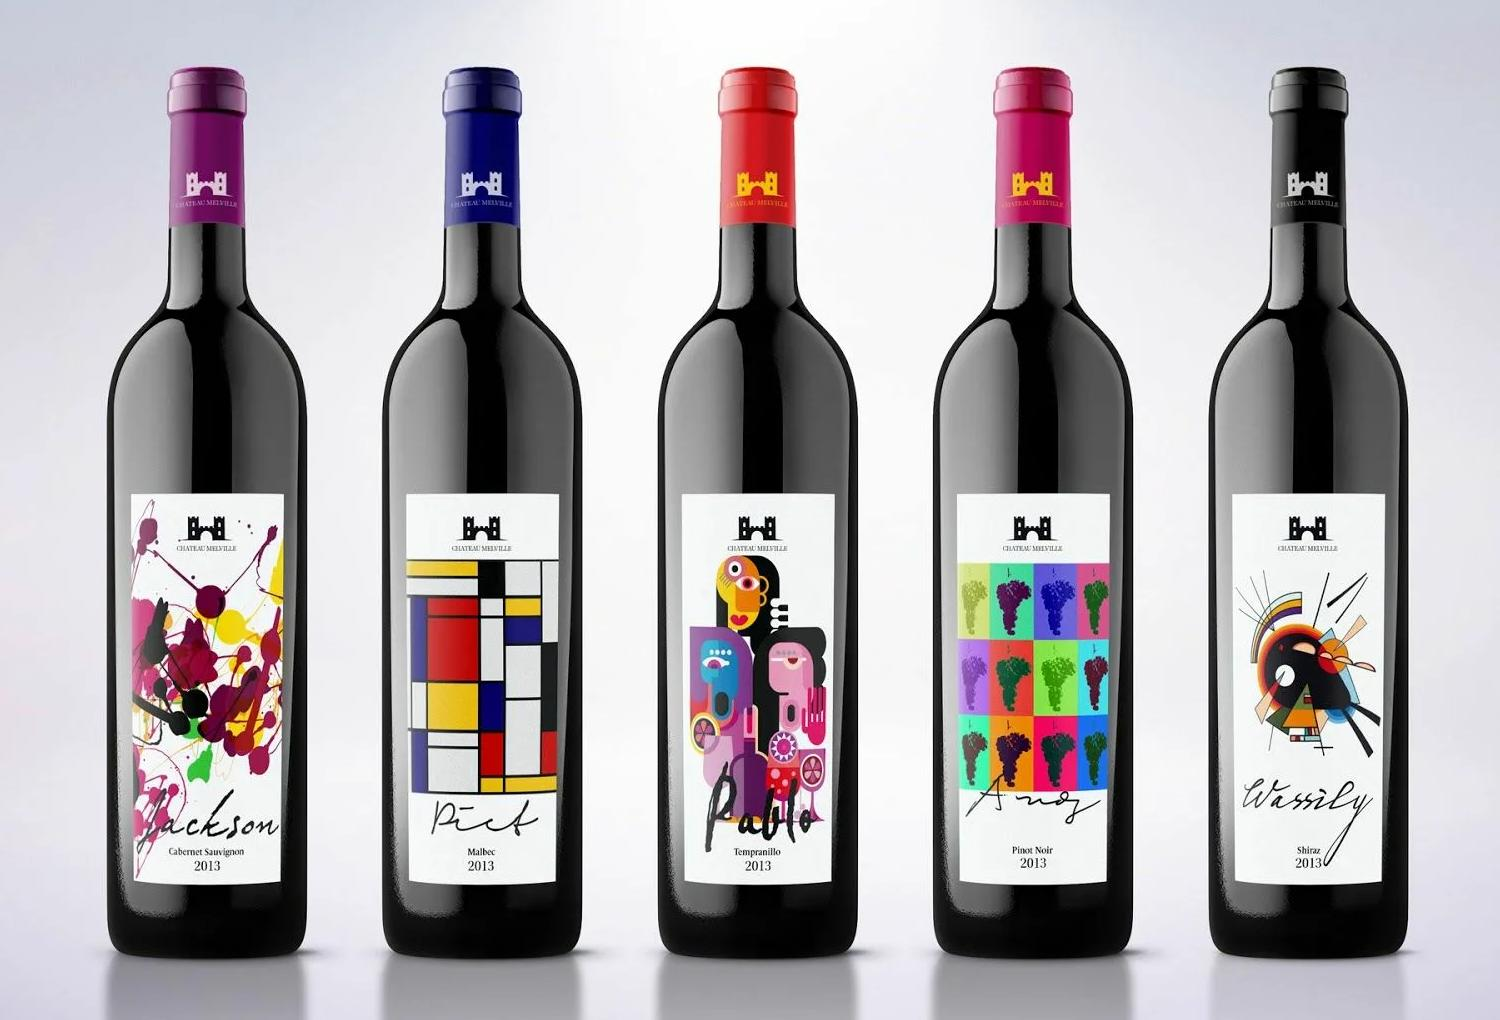wine bottle: (934, 64, 1136, 959), (106, 65, 307, 957), (658, 65, 858, 962), (1208, 63, 1409, 954), (382, 65, 582, 955)
wine label: (1230, 485, 1388, 887), (955, 488, 1114, 883), (679, 491, 839, 883), (403, 488, 559, 885), (130, 491, 285, 882)
